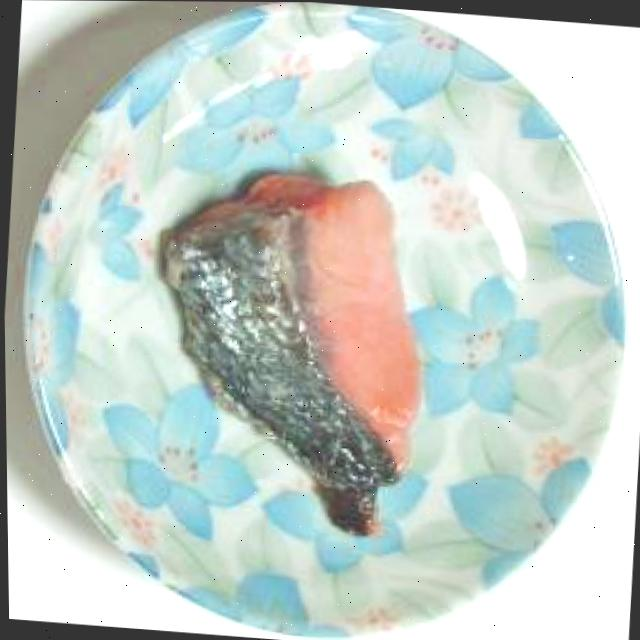熟制海鲜: (137, 150, 445, 568)
